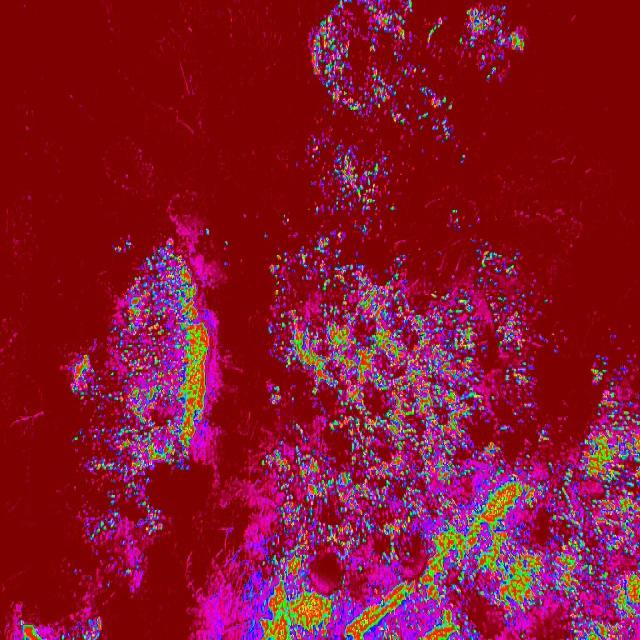fire: (266, 247, 531, 640), (117, 231, 228, 473), (64, 348, 163, 592), (590, 350, 640, 640), (308, 0, 419, 118), (532, 435, 590, 640), (310, 142, 402, 232), (224, 529, 266, 640), (461, 5, 524, 77), (16, 605, 103, 640)
